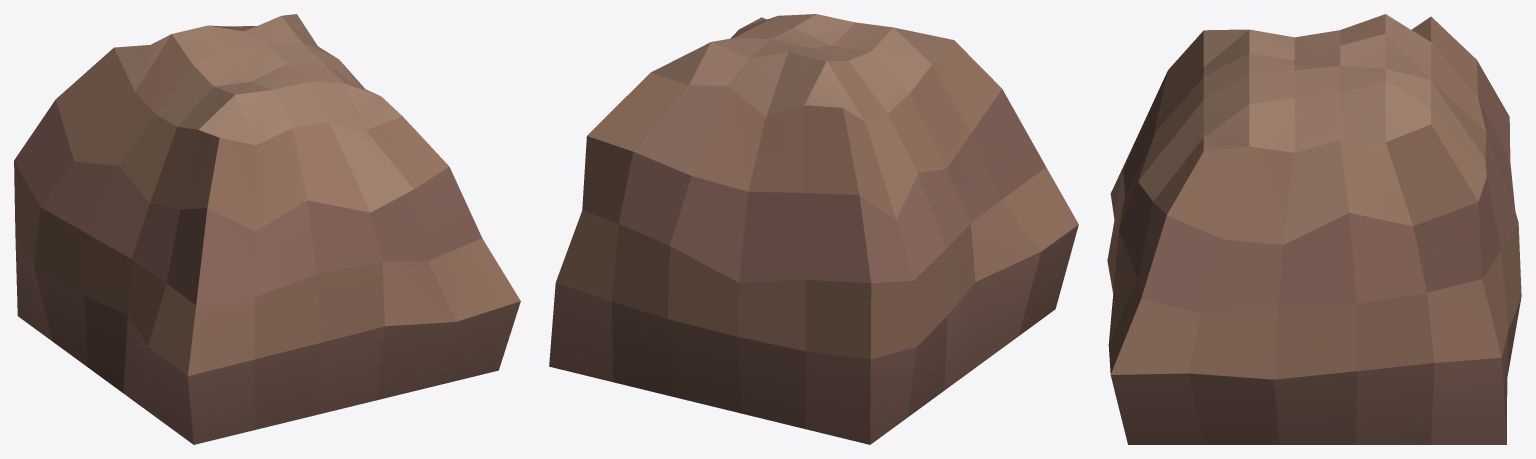
Rendered from roca_suelta_2.glb.
The picture shows the model from 3 angles, left to right: view 1: azimuth 30°, elevation 25°; view 2: azimuth 150°, elevation 25°; view 3: azimuth 270°, elevation 25°; orthographic projection. The views are drawn at different scales.
Parts seen in each view (by area): view 1: propforge-cuartos-roca_suelta; view 2: propforge-cuartos-roca_suelta; view 3: propforge-cuartos-roca_suelta.
Part boxes in pixels (x1,y1,x2,y2): propforge-cuartos-roca_suelta: (14,14,520,444); propforge-cuartos-roca_suelta: (549,14,1078,444); propforge-cuartos-roca_suelta: (1107,14,1521,444).
Bounding box in the file's own units: 0.9026 × 0.7507 × 0.8749.
